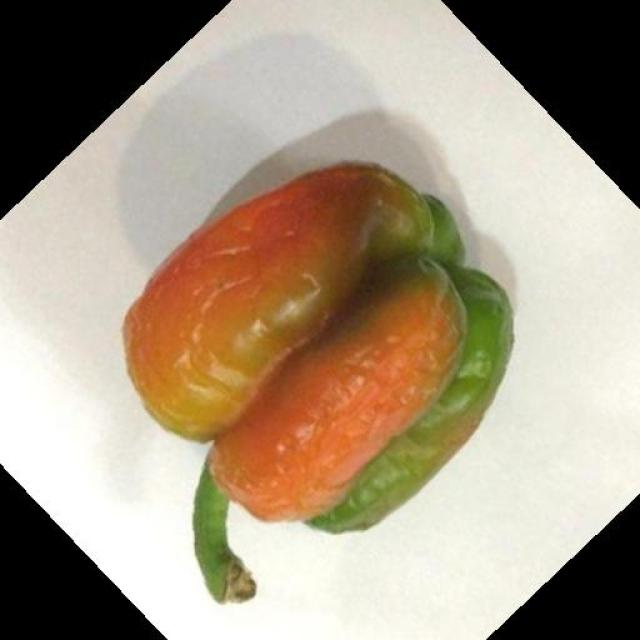Stale_Capsicum: (126, 146, 510, 535)
